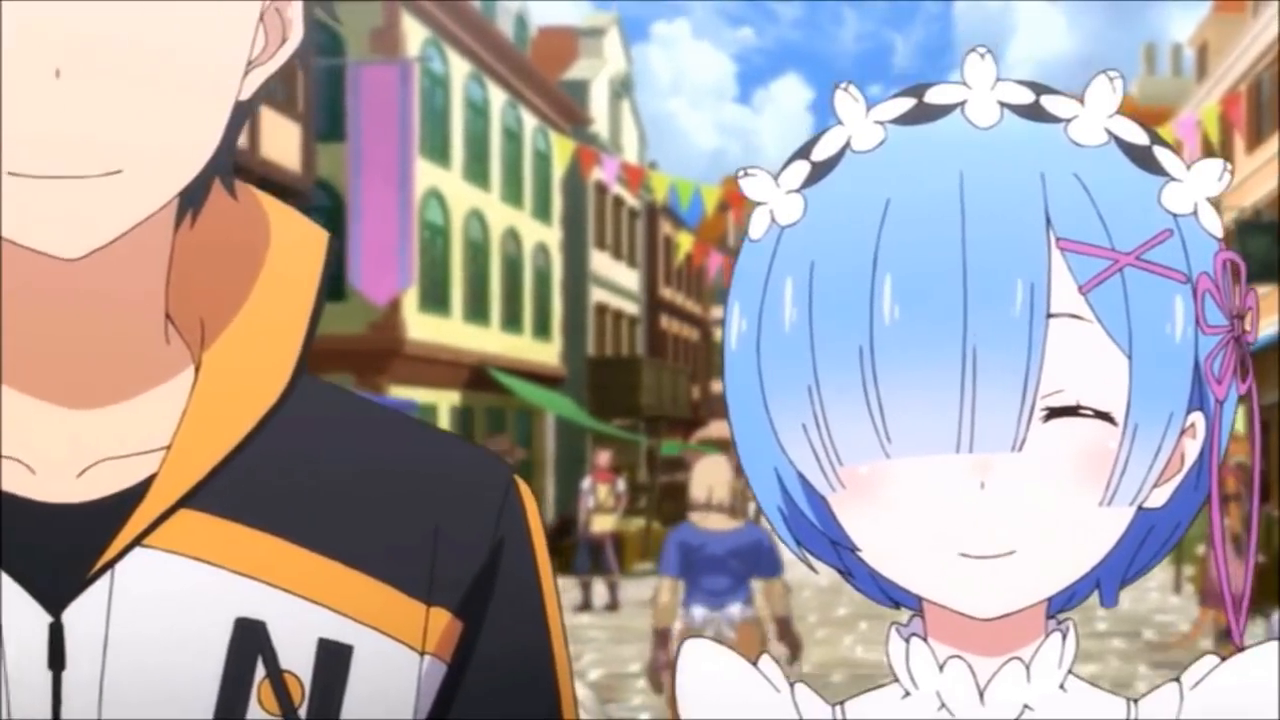REM: (718, 83, 1247, 614)
